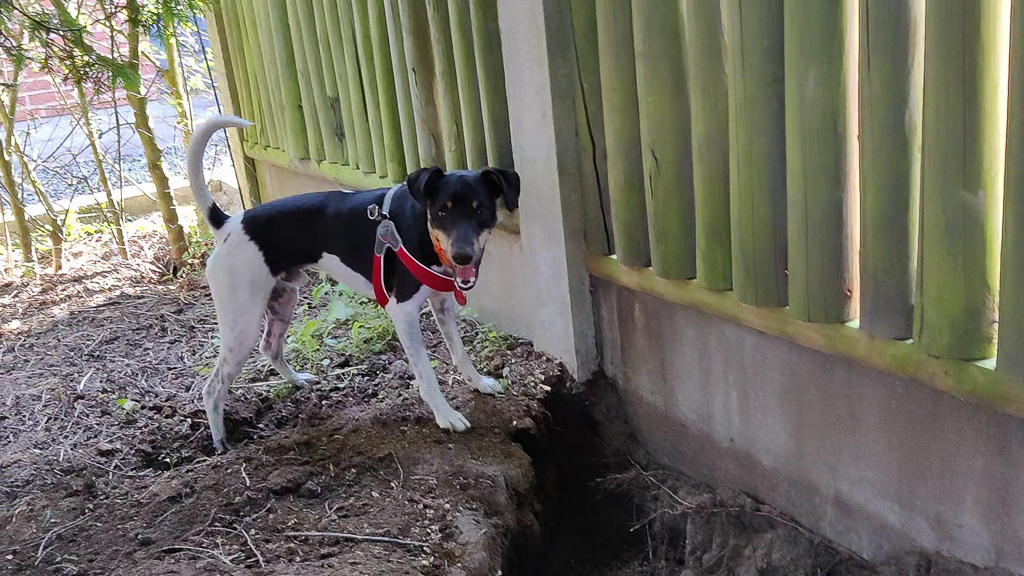Dog: (168, 97, 539, 456)
